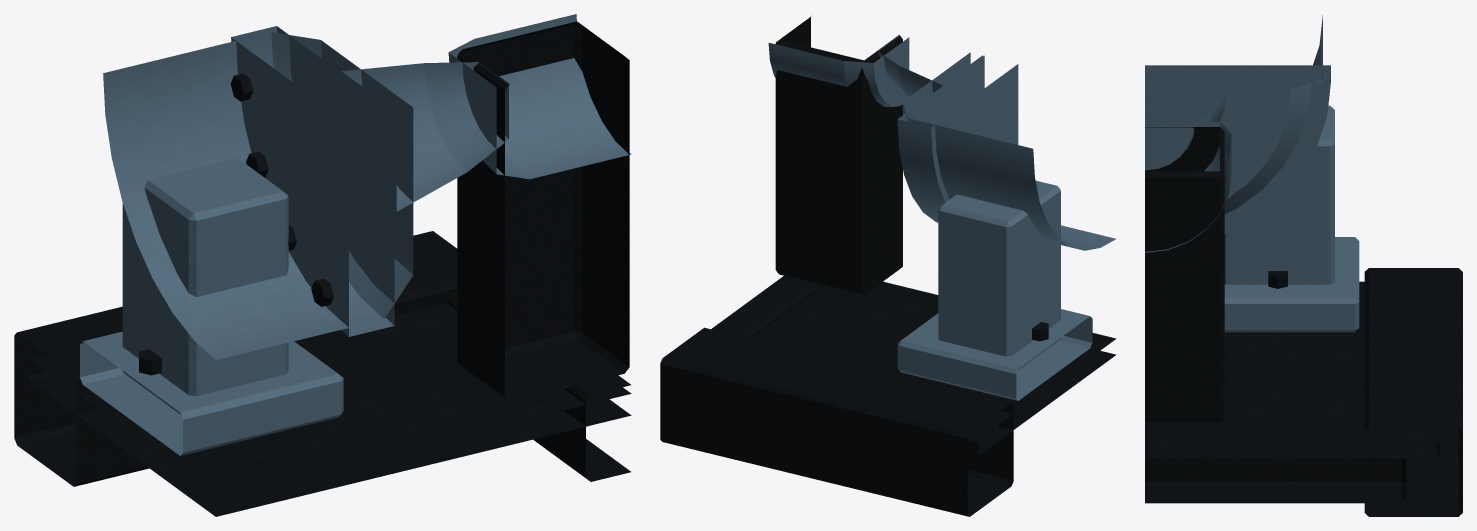
File: cell_2.obj
The picture shows the model from 3 angles, left to right: view 1: azimuth 30°, elevation 25°; view 2: azimuth 150°, elevation 25°; view 3: azimuth 270°, elevation 25°; orthographic projection. The views are drawn at different scales.
Parts seen in each view (by area): view 1: cell_2; view 2: cell_2; view 3: cell_2.
Boxes of the visible parts, box(x1,y1,x2,y2) form: cell_2: box(14, 14, 631, 516); cell_2: box(660, 16, 1116, 516); cell_2: box(1145, 15, 1462, 516).
Size of the model in its own units: 1 by 1 by 0.84.
